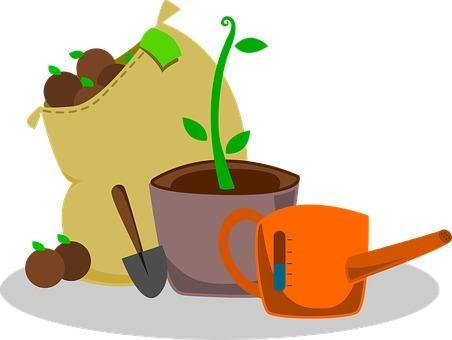pottedplant: (148, 14, 306, 299)
